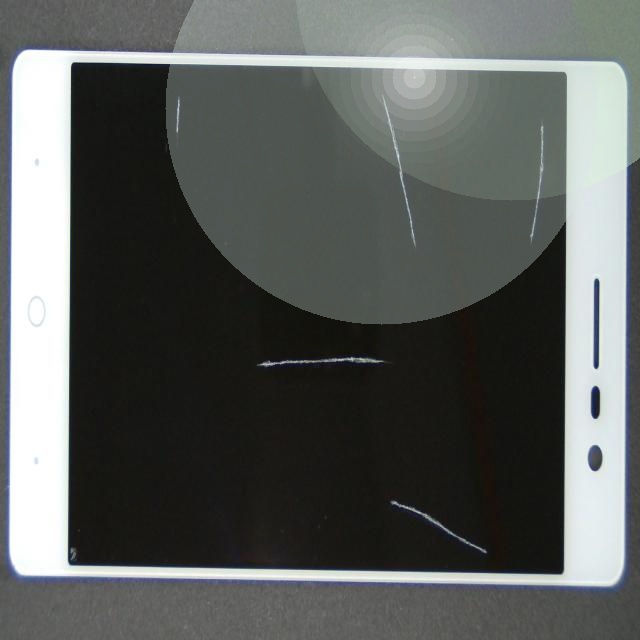scratch: (310, 310, 640, 640), (277, 166, 530, 514), (209, 174, 628, 352), (281, 153, 640, 250)
